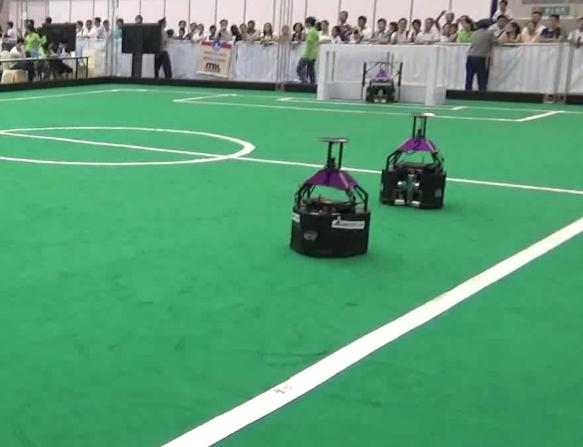robot: (283, 130, 376, 260), (376, 109, 449, 210)
